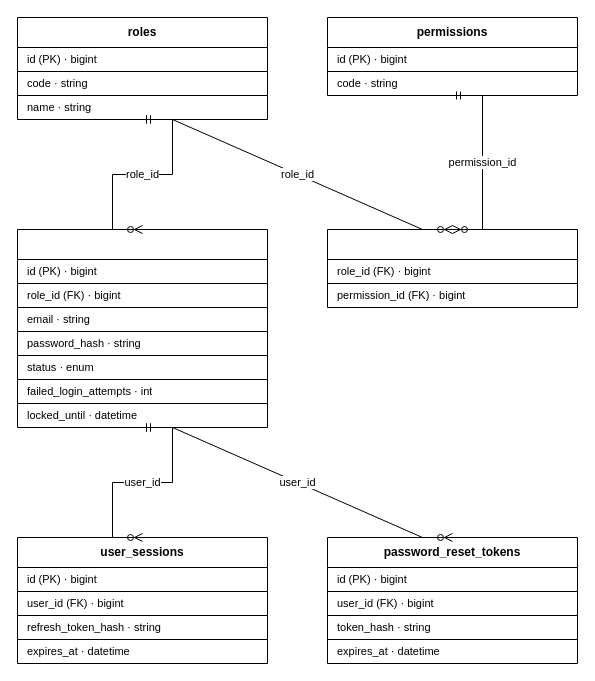
Image size: 595x681. Some labels were removed from this diagram. The box of each missing label's shape, as (x1, y1, x2, y2) in pixels:
role_permissions: (326, 228, 578, 308)
users: (16, 228, 268, 428)
